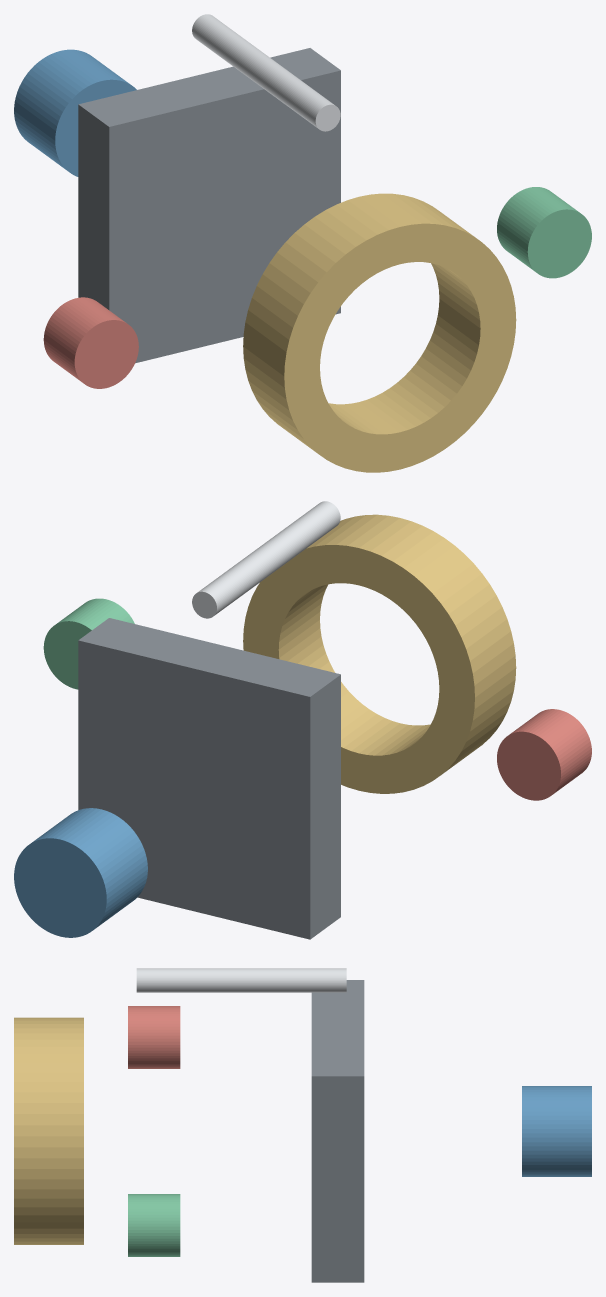
File: exploded.glb
The picture shows the model from 3 angles, top to bottom: view 1: azimuth 30°, elevation 25°; view 2: azimuth 150°, elevation 25°; view 3: azimuth 270°, elevation 25°; orthographic projection. The views are drawn at different scales.
Visible parts, largest first — view 1: frame, ring_die, motor, roller_right, roller_left, shaft; view 2: frame, ring_die, motor, roller_left, shaft, roller_right; view 3: ring_die, frame, motor, shaft, roller_left, roller_right.
Part boxes in pixels (x1,y1,x2,y2): frame: [78, 48, 340, 363]; ring_die: [243, 193, 516, 472]; motor: [14, 49, 136, 176]; roller_right: [497, 187, 591, 278]; roller_left: [43, 297, 138, 388]; shaft: [192, 14, 340, 131]; frame: [78, 618, 340, 939]; ring_die: [243, 514, 516, 793]; motor: [14, 808, 147, 937]; roller_left: [497, 709, 591, 800]; shaft: [192, 501, 340, 618]; roller_right: [43, 598, 134, 689]; ring_die: [14, 1017, 83, 1244]; frame: [311, 980, 364, 1282]; motor: [522, 1086, 591, 1176]; shaft: [136, 968, 346, 992]; roller_left: [128, 1006, 180, 1068]; roller_right: [128, 1194, 180, 1256].
Size of the model in its own units: 2.9 by 1.67 by 3.3.
